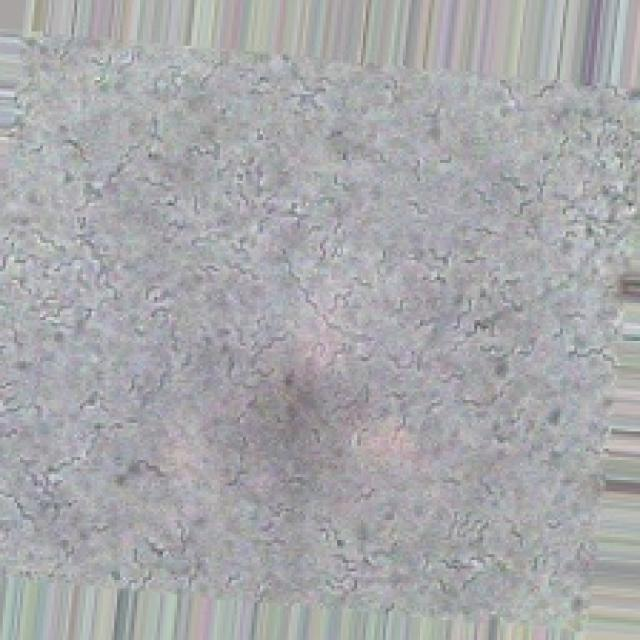Rod_bacteria: (0, 32, 637, 637)
